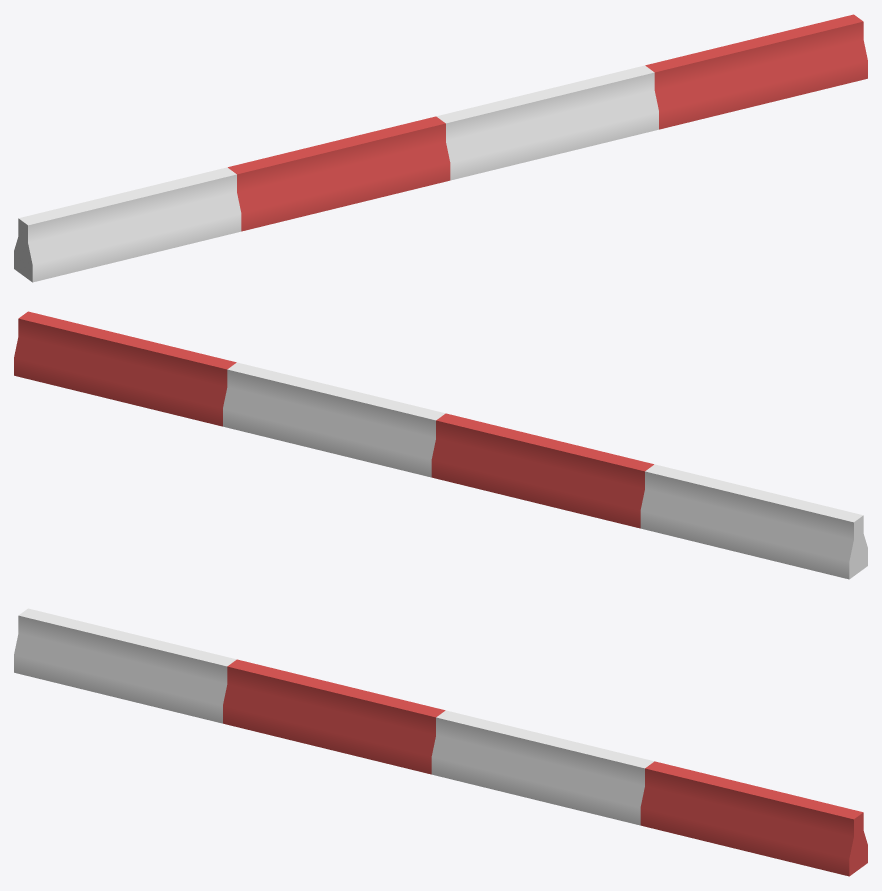
File: barda cemento.FBX
3 renders of one model, top to bottom at view 1: azimuth 30°, elevation 25°; view 2: azimuth 150°, elevation 25°; view 3: azimuth 330°, elevation 25°, orthographic.
Parts seen in each view (by area): view 1: bardaCemento; view 2: bardaCemento; view 3: bardaCemento.
Part boxes in pixels (x1,y1,x2,y2): bardaCemento: (14, 14, 867, 282); bardaCemento: (14, 311, 867, 579); bardaCemento: (14, 608, 867, 876).
Bounding box in the file's own units: 1666 × 103 × 64.08.
